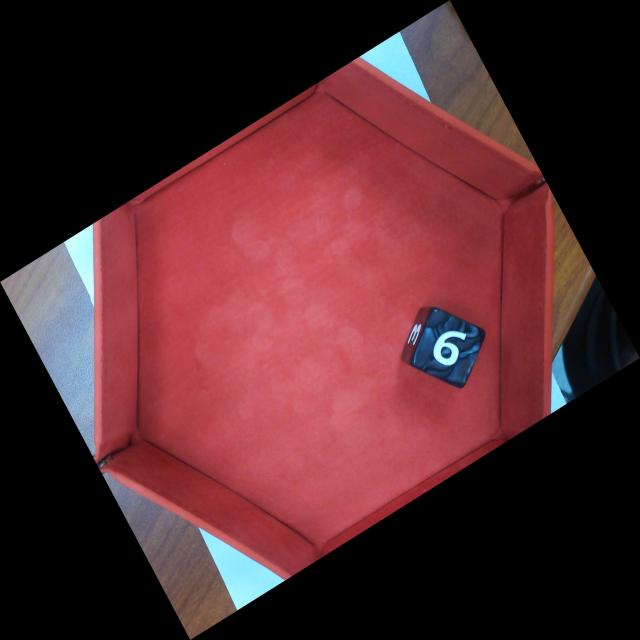dice: (406, 303, 489, 391)
